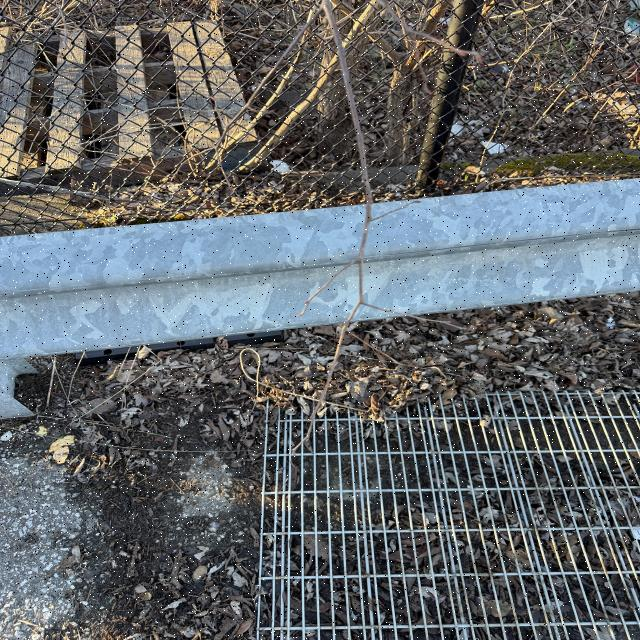Guard rail: (20, 191, 632, 347)
